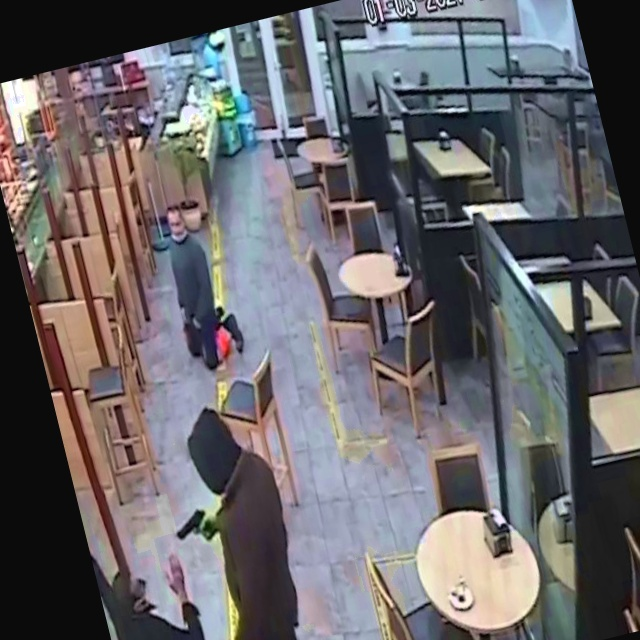gun: (160, 485, 224, 563)
